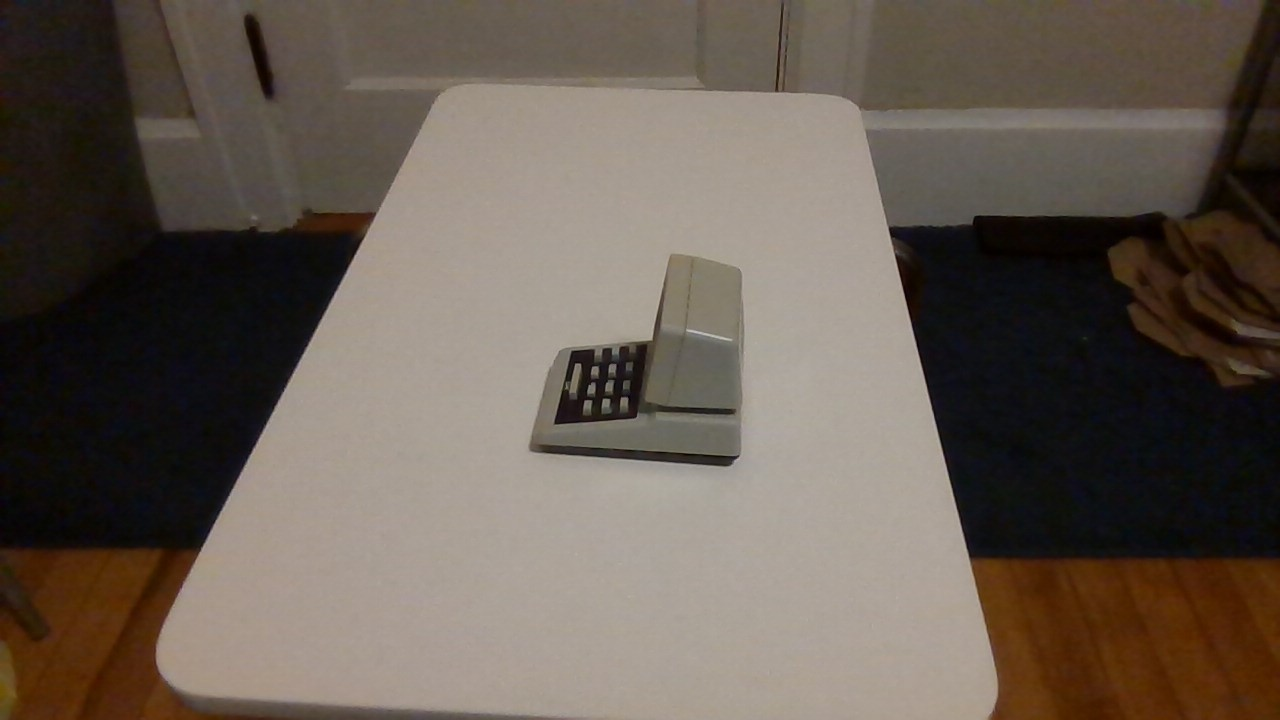Toy: (525, 243, 752, 473)
